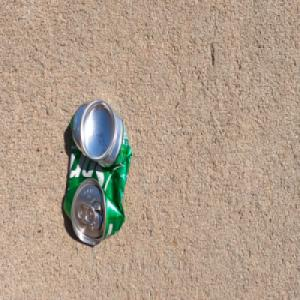SodaCan: (62, 97, 132, 247)
